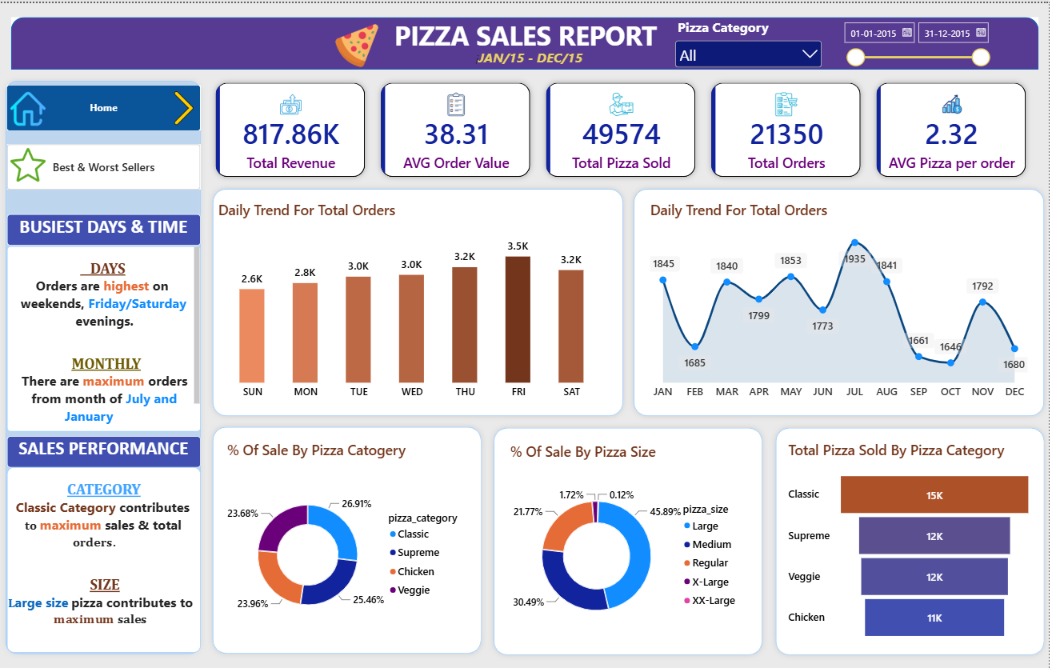

What the dashboard file says about the page in this screenshot:
{"tool":"powerbi","page":{"name":"Home","canvas":[1500,950],"ordinal":0},"visuals":[{"type":"cardVisual","fields":{"Data":["pizza_sales.Total Revenue","pizza_sales.AVG Order Value","pizza_sales.Total Pizza Sold","pizza_sales.Total Orders","pizza_sales.AVG Pizza per order"]},"box":[276.7,103.3,1223.8,156.1],"z":0},{"type":"shape","box":[16,20,1468,75],"z":1},{"type":"textbox","box":[380,28,130,150],"z":2},{"type":"textbox","box":[550,20,402,72],"z":3},{"type":"textbox","box":[680,64,226,54],"z":4},{"type":"image","box":[426,28,168,64],"z":5},{"type":"shape","box":[295,256.7,602.5,340.7],"z":6},{"type":"columnChart","title":"Daily Trend For Total Orders","fields":{"Category":["pizza_sales.Order Day"],"Y":["pizza_sales.Total Orders"]},"box":[295,266.7,586.7,318.6],"z":7},{"type":"shape","box":[896.7,256.7,602.5,340.7],"z":8},{"type":"areaChart","title":"Daily Trend For Total Orders","fields":{"Category":["pizza_sales.Order Month"],"Y":["pizza_sales.Total Orders"]},"box":[913.3,266.7,570.9,318.6],"z":9},{"type":"shape","box":[295,596.7,400,340],"z":10},{"type":"donutChart","title":"% Of Sale By Pizza Catogery","fields":{"Category":["pizza_sales.pizza_category"],"Y":["pizza_sales.Total Revenue"]},"box":[308.3,610,373,315],"z":11},{"type":"shape","box":[696.7,598.3,400,340.7],"z":12},{"type":"shape","box":[1100,598.3,400,340.7],"z":13},{"type":"donutChart","title":"% Of Sale By Pizza Size","fields":{"Category":["pizza_sales.pizza_size"],"Y":["pizza_sales.Total Revenue"]},"box":[713.3,611.7,366.7,315],"z":14},{"type":"funnel","title":"Total Pizza Sold By Pizza Category","fields":{"Category":["pizza_sales.pizza_category"],"Y":["pizza_sales.Total Pizza Sold"]},"box":[1110,610,380,316.7],"z":15},{"type":"shape","box":[0,103.3,295,835],"z":16},{"type":"textbox","box":[10,301.7,276.7,45],"z":17},{"type":"textbox","box":[10,346.7,276.7,265],"z":18},{"type":"textbox","box":[10,618.3,276.7,45],"z":19},{"type":"textbox","box":[10,663.3,276.7,265],"z":20},{"type":"slicer","fields":{"Values":["pizza_sales.pizza_category"]},"box":[960,21.7,218.3,70],"z":21},{"type":"slicer","fields":{"Values":["pizza_sales.order_date"]},"box":[1198.3,23.3,218.3,70],"z":22},{"type":"pageNavigator","box":[10,116.7,276.7,65],"z":23},{"type":"pageNavigator","box":[10,201.7,276.7,65],"z":24},{"type":"image","box":[238.3,111.7,48.3,76.7],"z":25},{"type":"image","box":[10,125,60,50],"z":26},{"type":"image","box":[10,205,60,50],"z":27}]}

Visuals, with their boxes in screenshot pixels (x1, y1, x2, y2), scaled from the page's 1500x950 canvas onto the 1050x668 screenshot:
cardVisual - pizza_sales.Total Revenue x pizza_sales.AVG Order Value: (194,73,1049,182)
shape: (11,14,1039,67)
textbox: (266,20,357,125)
textbox: (385,14,666,65)
textbox: (476,45,634,83)
image: (298,20,416,65)
shape: (206,181,628,420)
"Daily Trend For Total Orders" columnChart: (206,188,617,412)
shape: (628,181,1049,420)
"Daily Trend For Total Orders" areaChart: (639,188,1039,412)
shape: (206,420,486,659)
"% Of Sale By Pizza Catogery" donutChart: (216,429,477,650)
shape: (488,421,768,660)
shape: (770,421,1049,660)
"% Of Sale By Pizza Size" donutChart: (499,430,756,652)
"Total Pizza Sold By Pizza Category" funnel: (777,429,1043,652)
shape: (0,73,206,660)
textbox: (7,212,201,244)
textbox: (7,244,201,430)
textbox: (7,435,201,466)
textbox: (7,466,201,653)
slicer - pizza_sales.pizza_category: (672,15,825,64)
slicer - pizza_sales.order_date: (839,16,992,66)
pageNavigator: (7,82,201,128)
pageNavigator: (7,142,201,188)
image: (167,79,201,132)
image: (7,88,49,123)
image: (7,144,49,179)
